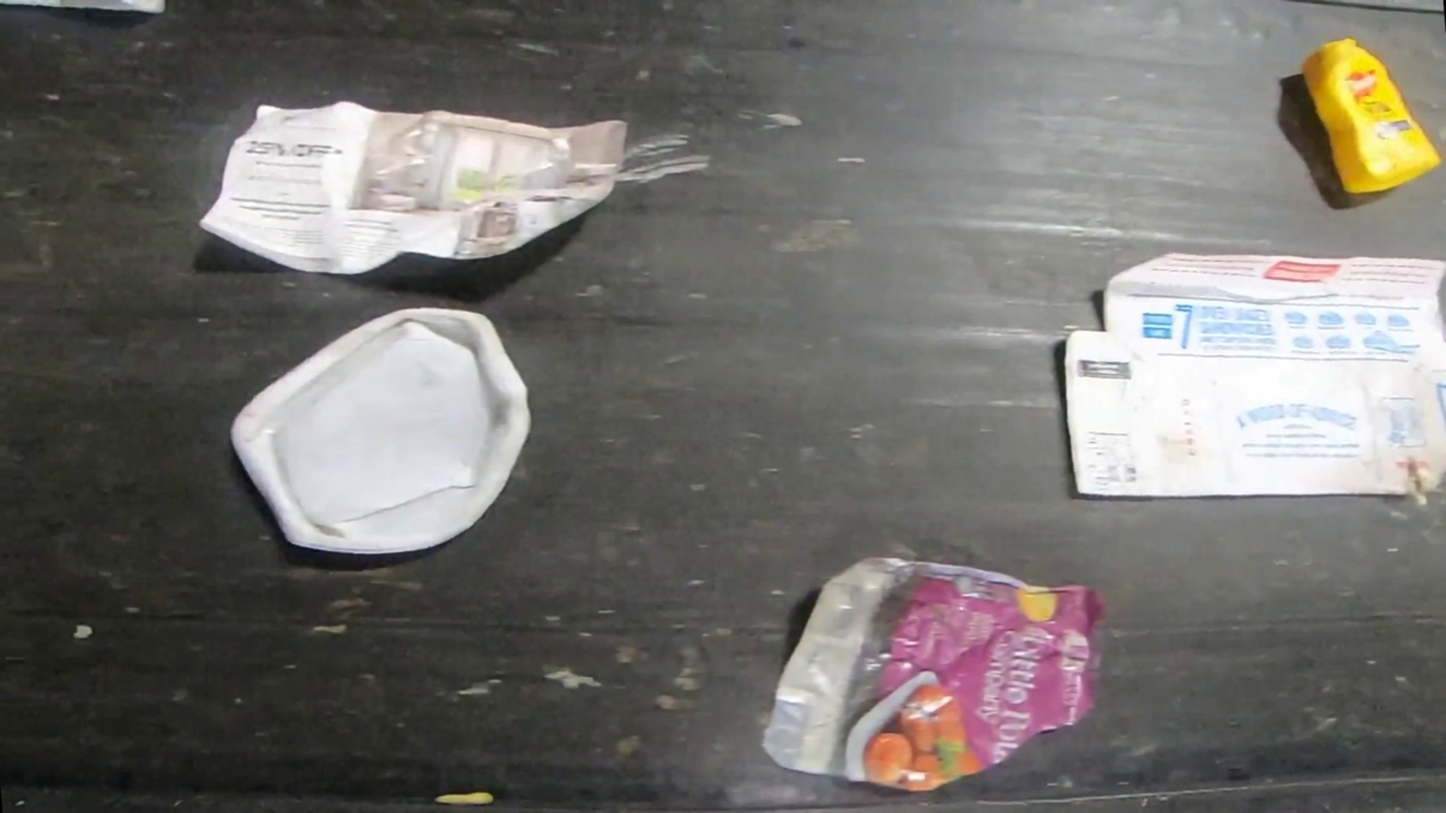cardboard: (1062, 251, 1446, 499)
plastic: (755, 557, 1104, 792), (229, 308, 534, 556), (1299, 38, 1441, 197)
